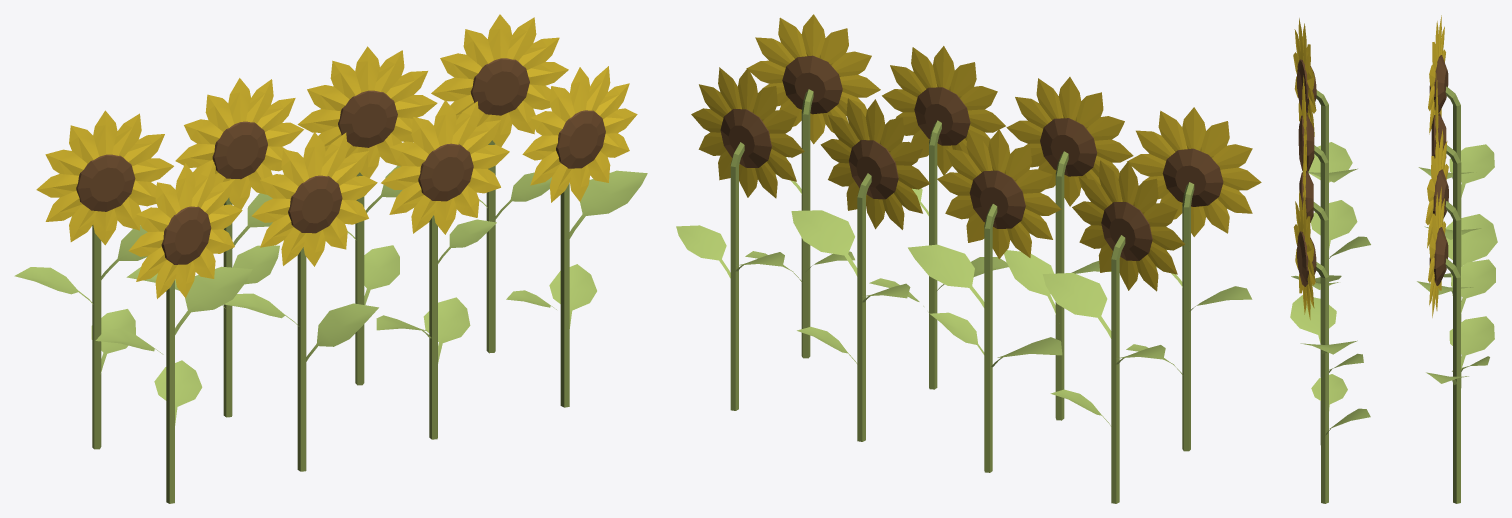
The model's file is farm_sunflower.FBX.
3 renders of one model, left to right at view 1: azimuth 30°, elevation 25°; view 2: azimuth 150°, elevation 25°; view 3: azimuth 270°, elevation 25°, orthographic. The views are drawn at different scales.
Parts seen in each view (by area): view 1: Cylinder008; view 2: Cylinder008; view 3: Cylinder008.
Boxes of the visible parts, x1=… form: Cylinder008: x1=14, y1=14, x2=647, y2=503; Cylinder008: x1=676, y1=14, x2=1261, y2=503; Cylinder008: x1=1290, y1=15, x2=1497, y2=503.
Size of the model in its own units: 11.54 by 6.9 by 4.2.
1 material, 1 textured.
